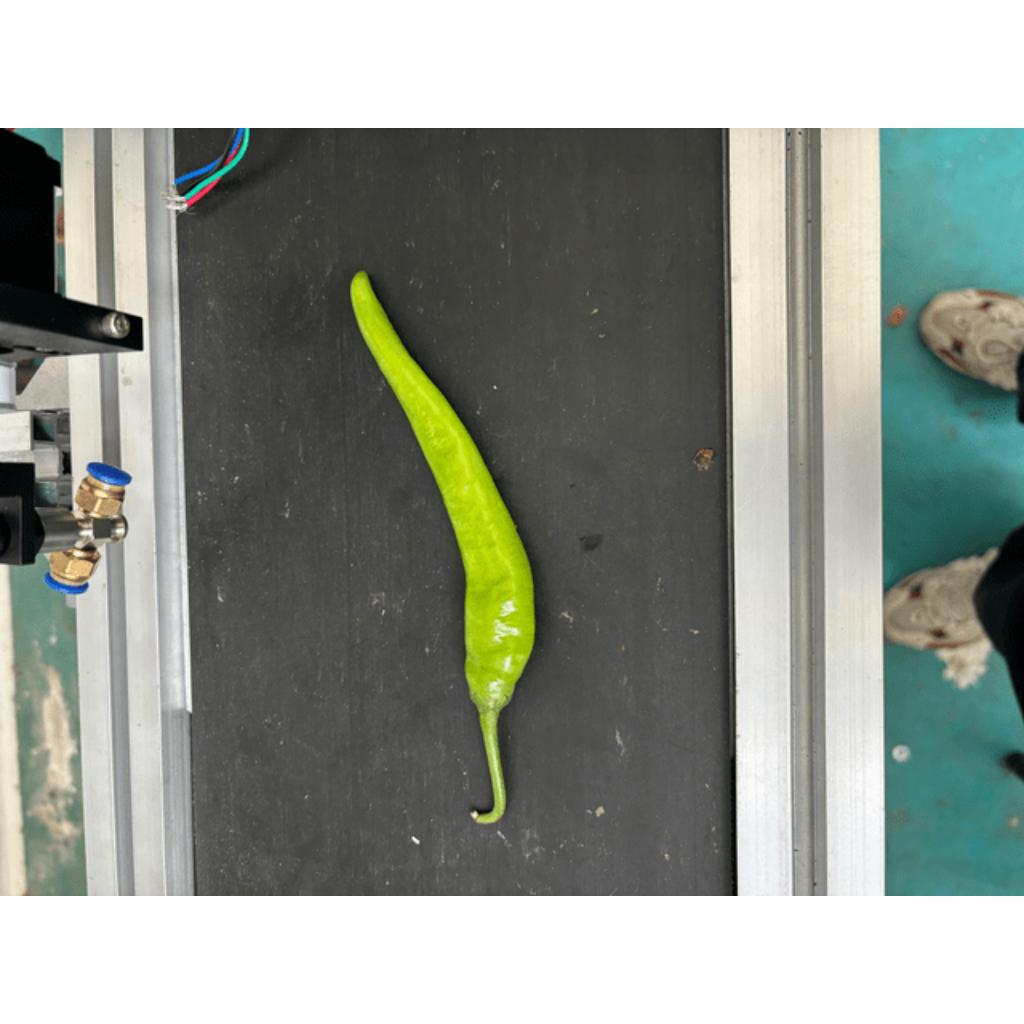chili: (349, 265, 539, 718)
